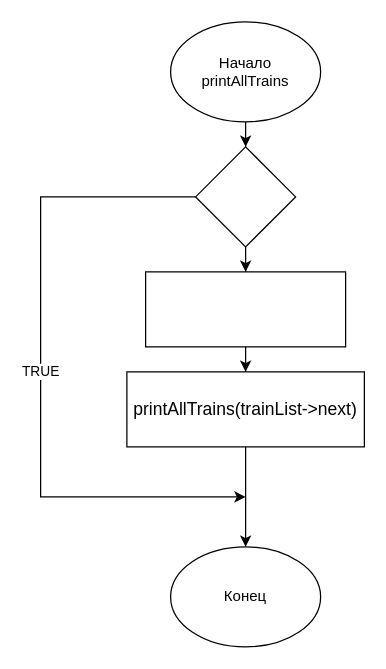
Some shapes in this 386 by 669 pixel diagram are drawn without their labels. Each missing label, with the centre of its shape:
!trainList: (x=245, y=196)
printTrain(trainList->train): (x=245, y=309)
